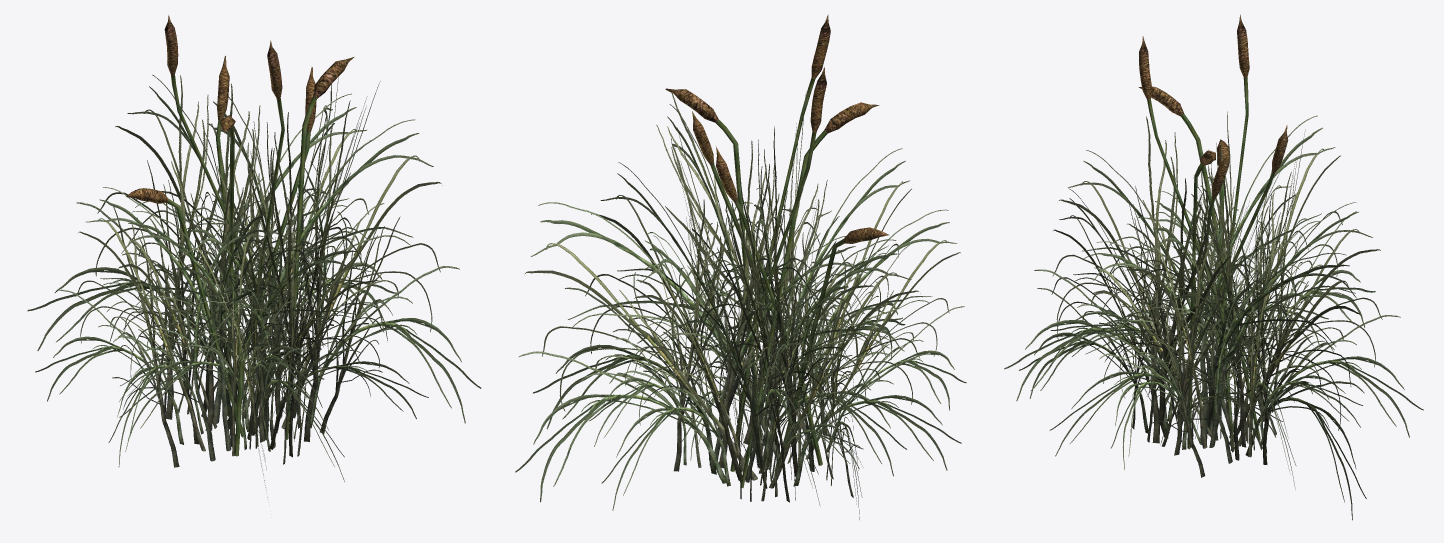
Rendered from shrub_cattail_01.DAE.
3 renders of one model, left to right at view 1: azimuth 30°, elevation 25°; view 2: azimuth 150°, elevation 25°; view 3: azimuth 270°, elevation 25°, orthographic. The views are drawn at different scales.
Parts seen in each view (by area): view 1: shrub_cattail_01_CattailBlades, shrub_cattail_01_CattailBlades001, shrub_cattail_01_CattailStalk; view 2: shrub_cattail_01_CattailBlades001, shrub_cattail_01_CattailBlades, shrub_cattail_01_CattailStalk; view 3: shrub_cattail_01_CattailBlades, shrub_cattail_01_CattailBlades001, shrub_cattail_01_CattailStalk.
Part boxes in pixels (x1=…): shrub_cattail_01_CattailBlades: x1=27, y1=74, x2=481, y2=497; shrub_cattail_01_CattailBlades001: x1=35, y1=75, x2=428, y2=481; shrub_cattail_01_CattailStalk: x1=126, y1=15, x2=353, y2=456; shrub_cattail_01_CattailBlades001: x1=515, y1=93, x2=966, y2=510; shrub_cattail_01_CattailBlades: x1=532, y1=91, x2=906, y2=519; shrub_cattail_01_CattailStalk: x1=665, y1=14, x2=888, y2=487; shrub_cattail_01_CattailBlades: x1=1004, y1=129, x2=1423, y2=520; shrub_cattail_01_CattailBlades001: x1=1049, y1=111, x2=1375, y2=489; shrub_cattail_01_CattailStalk: x1=1138, y1=14, x2=1288, y2=450.
Size of the model in its own units: 1.93 by 2.26 by 2.15.
